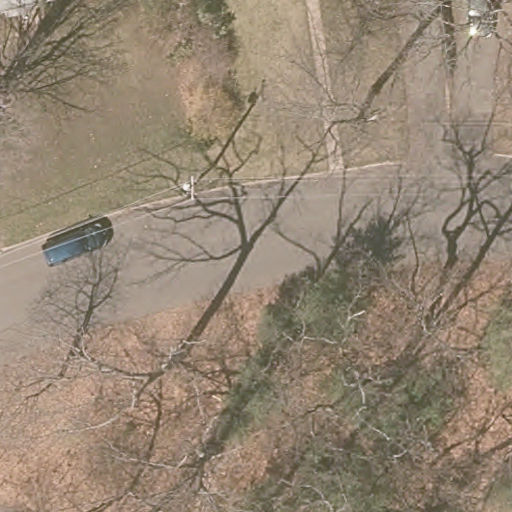DT: (177, 175, 203, 206)
